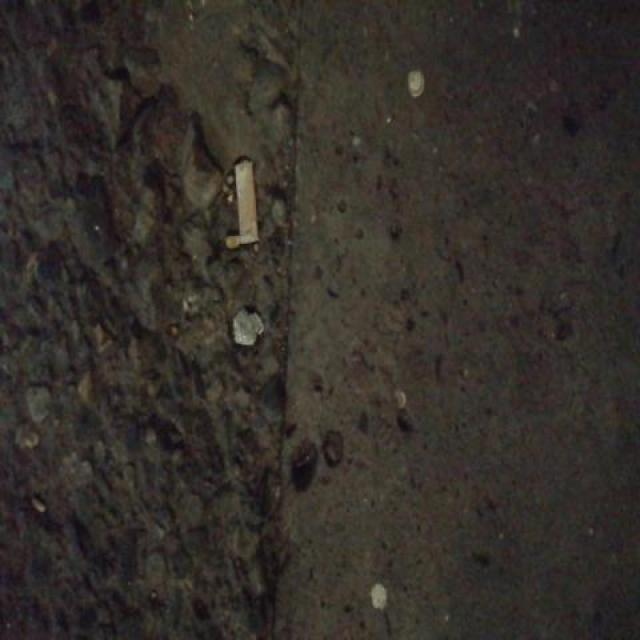non-organic waste: (230, 153, 262, 250)
